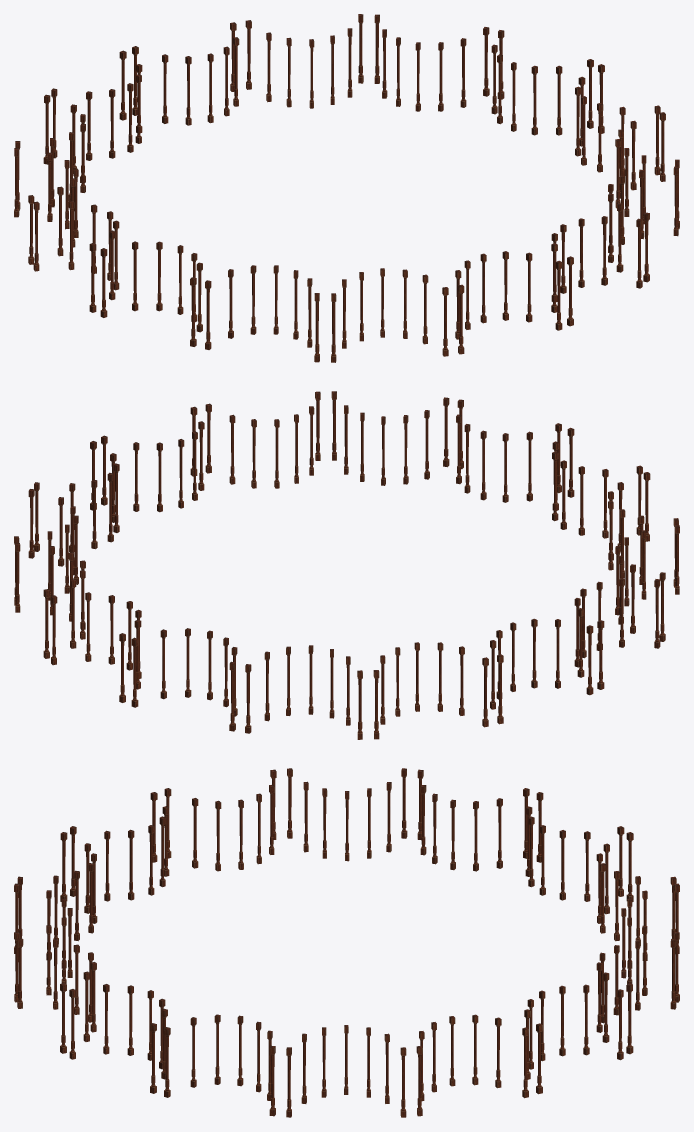
The model's file is Selected_Poles.obj.
3 renders of one model, top to bottom at view 1: azimuth 30°, elevation 25°; view 2: azimuth 150°, elevation 25°; view 3: azimuth 270°, elevation 25°, orthographic.
Visible parts, largest first — view 1: Trial_Bench_Rods; view 2: Trial_Bench_Rods; view 3: Trial_Bench_Rods.
Boxes of the visible parts, <box> form: Trial_Bench_Rods: <box>14,14,679,362</box>; Trial_Bench_Rods: <box>14,391,679,739</box>; Trial_Bench_Rods: <box>14,768,679,1117</box>.
Size of the model in its own units: 5.89 by 0.6659 by 5.89.
1 material, 1 textured.
